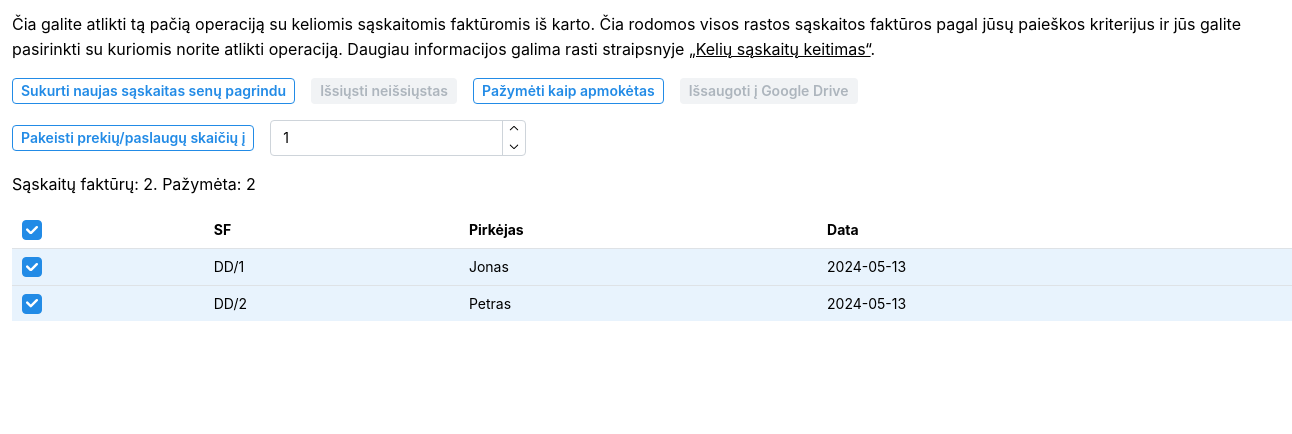
Test: create new invoiced based on old (not all)
The image size is (1292, 434).
What coordinates should you click on to do the following:
click the checkbox with test id "invoice-check-1"
I would click on:
 (32, 267)
Its box is left=22, top=257, right=42, bottom=277.
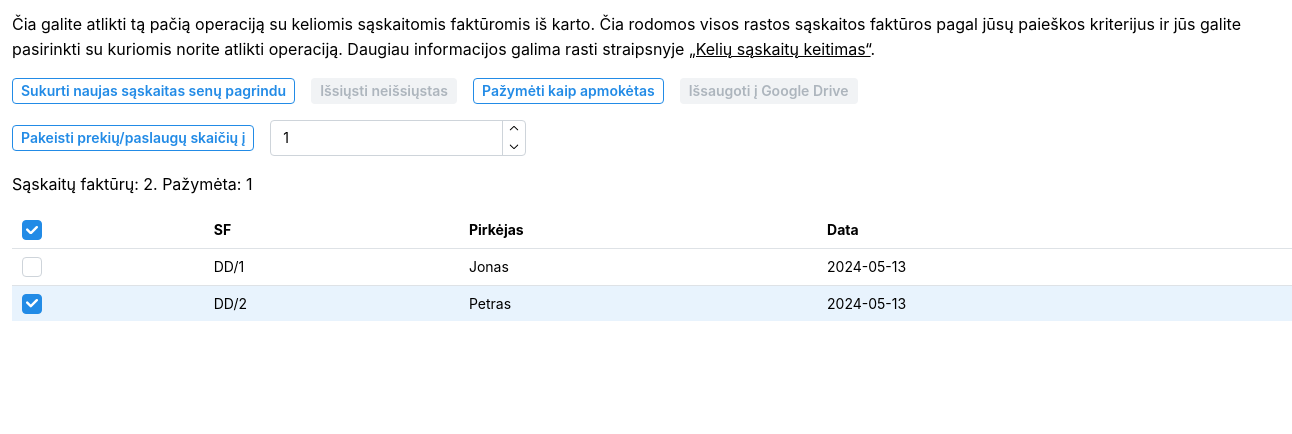
What coordinates should you click on to do the following:
click the button "Sukurti naujas sąskaitas senų pagrindu"
I would click on:
 (154, 91)
Its box is left=12, top=78, right=295, bottom=104.
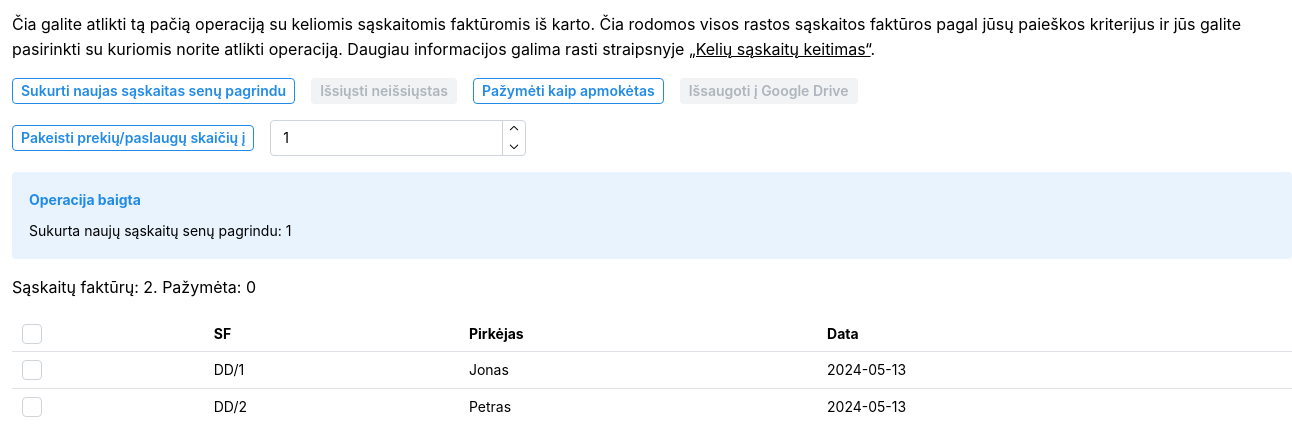
expect the message with test id "operation-result" shows "Sukurta naujų sąskaitų senų pagrindu: 1": met, box left=29, top=222, right=291, bottom=239
